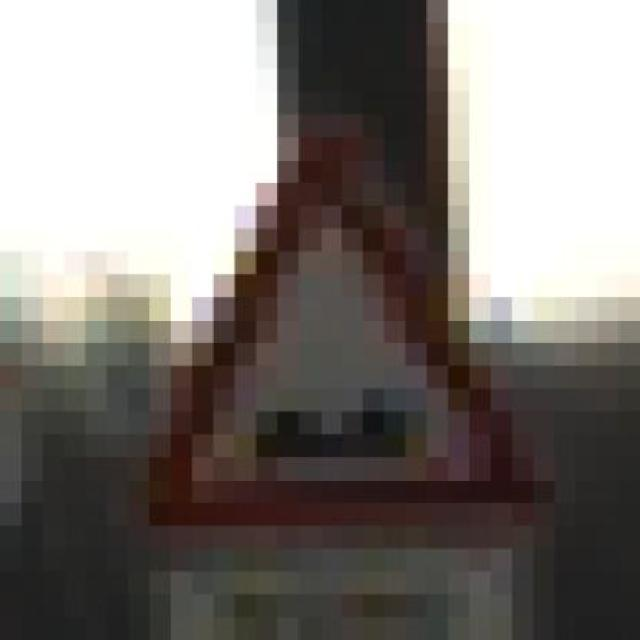Uneven Road: (128, 114, 555, 549)
